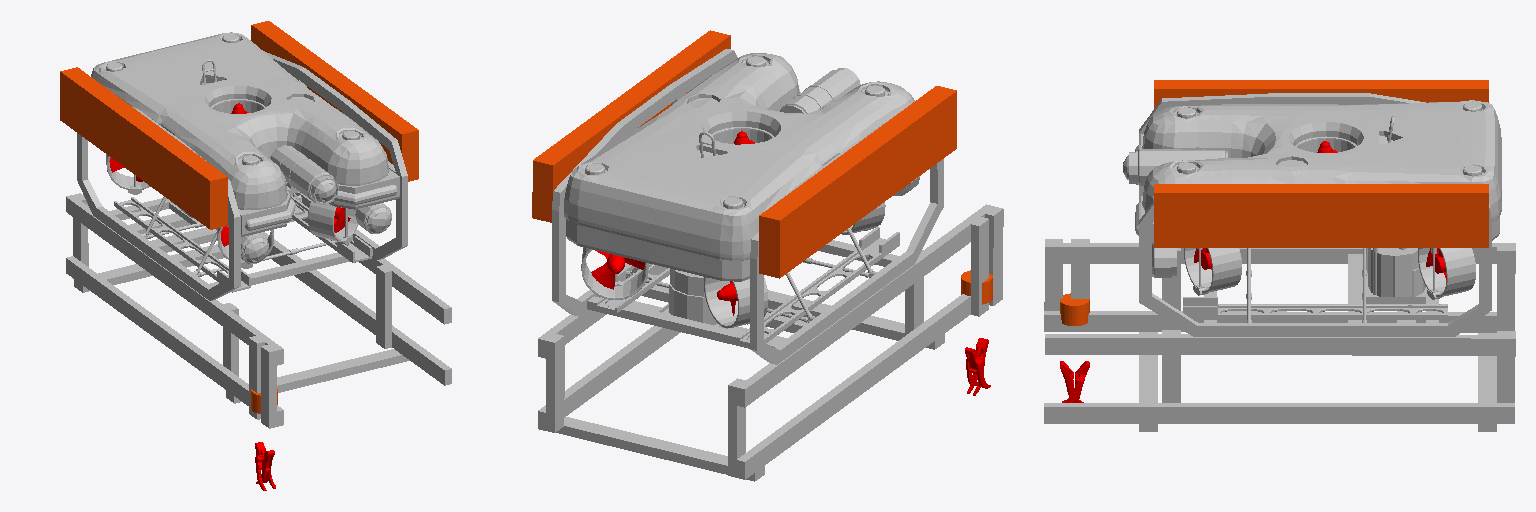
URDF robot description (falcon_bravo7_gripper):
<?xml version="1.0"?>
<robot name="falcon_bravo7_gripper">

    <material name="green">
            <color rgba="0.235 0.702 0.443 1"/>
    </material>

    <material name="blue">
            <color rgba="0.263 0.733 0.984 1"/>
    </material>

    <material name="purple">
            <color rgba="0.5 0.733 0.984 1"/>
    </material>

    <material name="red">
            <color rgba="1 0 0 1"/>
    </material>

    <material name="black">
            <color rgba="0.8 0.8 0.8 1"/>
    </material>

    <material name="orange">
            <color rgba="1 0.369 0.047 1"/>
    </material>

            <link name="falcon">
                <!--Inertial parameters are not correct-->
                <inertial>
                    <mass value="200.0"/>
                    <origin xyz="0 0 0"/>
                    <inertia ixx="0.01152" ixy="0.0" ixz="0.0" iyy="0.01152" iyz="0.0" izz="0.0218"/>
                </inertial>
                <visual>
                    <origin rpy="0 0 0" xyz="0 0 0"/>
                    <geometry>
                        <mesh filename="package://example-robot-data/robots/falcon_description/meshes/falcon_rov.stl"/>
                    </geometry>
                    <material name="black"/>
                </visual>
                <collision>
                    <origin rpy="0 0 0" xyz="0 0 0"/>
                    <geometry>
                        <mesh filename="package://example-robot-data/robots/falcon_description/meshes/falcon_rov_convex_hull.stl"/>
                    </geometry>
                </collision>
            </link>

            <link name="chassis">
                <!--Inertial parameters are not correct-->
                <inertial>
                    <mass value="200.0"/>
                    <origin xyz="0 0 0"/>
                    <inertia ixx="0.01152" ixy="0.0" ixz="0.0" iyy="0.01152" iyz="0.0" izz="0.0218"/>
                </inertial>
                <visual>
                    <origin rpy="0 0 0" xyz="0 0 0"/>
                    <geometry>
                        <mesh filename="package://example-robot-data/robots/falcon_description/meshes/chassis_rov.stl"/>
                    </geometry>
                    <material name="black"/>
                </visual>
                <collision>
                    <origin rpy="0 0 0" xyz="0 0 0"/>
                    <geometry>
                        <mesh filename="package://example-robot-data/robots/falcon_description/meshes/chassis_rov_convex_hull.stl"/>
                    </geometry>
                </collision>
            </link>

                    <joint name="falcon2chassis" type="fixed">
                        <parent link="falcon"/>
                        <child link="chassis"/>
                        <origin rpy="-1.57 3.14  0" xyz="0.295 -0.73 -0.275"/>
                    </joint>

            <link name="floaterR">
                <!--Inertial parameters are not correct-->
                <inertial>
                    <mass value="2.0"/>
                    <origin xyz="0 0 0"/>
                    <inertia ixx="0.01152" ixy="0.0" ixz="0.0" iyy="0.01152" iyz="0.0" izz="0.0218"/>
                </inertial>
                <visual>
                    <origin rpy="0 0 0" xyz="0 0 0"/>
                    <geometry>
                        <mesh filename="package://example-robot-data/robots/falcon_description/meshes/floater.stl"/>
                    </geometry>
                    <material name="orange"/>
                </visual>
                <collision>
                    <origin rpy="0 0 0" xyz="0 0 0"/>
                    <geometry>
                        <mesh filename="package://example-robot-data/robots/falcon_description/meshes/floater.stl"/>
                    </geometry>
                </collision>
            </link>

                    <joint name="falcon2floaterR" type="fixed">
                        <parent link="falcon"/>
                        <child link="floaterR"/>
                        <origin rpy="-1.57 0 -1.57" xyz="0.29 0.45 0.45"/>
                    </joint>

            <link name="floaterL">
                <!--Inertial parameters are not correct-->
                <inertial>
                    <mass value="2.0"/>
                    <origin xyz="0 0 0"/>
                    <inertia ixx="0.01152" ixy="0.0" ixz="0.0" iyy="0.01152" iyz="0.0" izz="0.0218"/>
                </inertial>
                <visual>
                    <origin rpy="0 0 0" xyz="0 0 0"/>
                    <geometry>
                        <mesh filename="package://example-robot-data/robots/falcon_description/meshes/floater.stl"/>
                    </geometry>
                    <material name="orange"/>
                </visual>
                <collision>
                    <origin rpy="0 0 0" xyz="0 0 0"/>
                    <geometry>
                        <mesh filename="package://example-robot-data/robots/falcon_description/meshes/floater.stl"/>
                    </geometry>
                </collision>
            </link>

                    <joint name="falcon2floaterL" type="fixed">
                        <parent link="falcon"/>
                        <child link="floaterL"/>
                        <origin rpy="-1.57 0 -1.57" xyz="-0.365 0.45 0.45"/>
                    </joint>

            <!--PROPELLERS-->
            <link name="top_propeller">
                <visual>
                    <geometry>
                        <mesh filename="package://example-robot-data/robots/falcon_description/meshes/propeller_rov.stl"/>
                    </geometry>
                    <material name="red"/>
                </visual>
            </link>

            <link name="FR_propeller">
                <visual>
                    <geometry>
                        <mesh filename="package://example-robot-data/robots/falcon_description/meshes/propeller_rov.stl"/>
                    </geometry>
                    <material name="red"/>
                </visual>
            </link>

            <link name="FL_propeller">
                <visual>
                    <geometry>
                        <mesh filename="package://example-robot-data/robots/falcon_description/meshes/propeller_rov.stl"/>
                    </geometry>
                    <material name="red"/>
                </visual>
            </link>

            <link name="BL_propeller">
                <visual>
                    <geometry>
                        <mesh filename="package://example-robot-data/robots/falcon_description/meshes/propeller_rov.stl"/>
                    </geometry>
                    <material name="red"/>
                </visual>
            </link>

            <link name="BR_propeller">
                <visual>
                    <geometry>
                        <mesh filename="package://example-robot-data/robots/falcon_description/meshes/propeller_rov.stl"/>
                    </geometry>
                    <material name="red"/>
                </visual>
            </link>

                    <joint name="top_propeller_joint" type="fixed">
                        <parent link="falcon"/>
                        <child link="top_propeller"/>
                        <origin rpy="0.0 1.57 0" xyz="-0.005 0.015 0.35"/>
                    </joint>

                    <joint name="BR_propeller_joint" type="fixed">
                        <parent link="falcon"/>
                        <child link="BR_propeller"/>
                        <origin rpy="0.0 0.0 -2.0944" xyz="-0.19 0.31 0.165"/>
                    </joint>

                    <joint name="BL_propeller_joint" type="fixed">
                        <parent link="falcon"/>
                        <child link="BL_propeller"/>
                        <origin rpy="0.0 0.0 -1.0472" xyz="0.19 0.31 0.165"/>
                    </joint>

                    <joint name="FL_propeller_joint" type="fixed">
                        <parent link="falcon"/>
                        <child link="FL_propeller"/>
                        <origin rpy="0.0 0.0 -1.0472" xyz="0.165 -0.307 0.165"/>
                    </joint>

                    <joint name="FR_propeller_joint" type="fixed">
                        <parent link="falcon"/>
                        <child link="FR_propeller"/>
                        <origin rpy="0.0 0.0 -2.094395327" xyz="-0.165 -0.307 0.165"/>
                    </joint>

                    <joint name="base2arm" type="fixed">
                        <parent link="falcon"/>
                        <child link="link1"/>
                        <origin rpy="0 0 3.14" xyz="-0.325 -0.65 -0.09"/>
                    </joint>

          <!-- Bravo7 with sphere end-effector -->
            <link name="link1">
                <visual>
                    <geometry>
                        <mesh filename="package://example-robot-data/robots/bravo7_description/meshes/RS2-266.stl"/>
                    </geometry>
                    <material name="blue"/>
                </visual>
                <inertial>
                    <mass value="1.25"/>
                    <origin xyz="-0.075 -0.006 -0.003"/>
                    <inertia ixx="0.002108" ixy="0.000182" ixz="-0.000015" iyy="0.002573" iyz="-0.000021" izz="0.003483"/>
                </inertial>
                <collision>
                    <geometry>
                        <mesh filename="package://example-robot-data/robots/bravo7_description/meshes/RS2-266_convex_hull.stl"/>
                    </geometry>
                </collision>
            </link>

                    <joint name="joint1" type="continuous">
                        <parent link="link1"/>
                        <child link="link2"/>
                        <origin rpy="0 0 0" xyz="0.0665 0 0.078"/>
                        <axis xyz="0 0 -1"/>
                    </joint>

            <link name="link2">
                <visual>
                    <geometry>
                        <mesh filename="package://example-robot-data/robots/bravo7_description/meshes/RS2-217.stl"/>
                    </geometry>
                    <material name="green"/>
                </visual>
                <inertial>
                        <mass value="1.55" />
                        <inertia ixx="0.011442" ixy="-0.000484" ixz="0.003405" iyy="0.01298" iyz="-0.001265" izz="0.003202"/>
                        <origin xyz="0.005 -0.001 0.016" />
                </inertial>
                <collision>
                    <geometry>
                        <mesh filename="package://example-robot-data/robots/bravo7_description/meshes/RS2-217_convex_hull.stl"/>
                    </geometry>
                </collision>
            </link>

                    <joint name="joint2" type="revolute">
                        <parent link="link2"/>
                        <child link="link3"/>
                        <origin rpy="0 0 0" xyz="-0.046 0 0.0674"/>
                        <axis xyz="0 1 0"/>
                        <limit effort="9.0" lower="0.0" upper="3.5" velocity="0.5"/>
                    </joint>

            <link name="link3">
                <visual>
                    <geometry>
                        <mesh filename="package://example-robot-data/robots/bravo7_description/meshes/RS2-250-212-214.stl"/>
                    </geometry>
                    <material name="blue"/>
                </visual>
                <inertial>
                    <mass value="1.14" />
                    <origin xyz="0.022 -0.029 0.001" />
                    <inertia ixx="0.003213" ixy="-0.001548" ixz="-0.000031" iyy="0.002327" iyz="0.000006" izz="0.00434"/>
                </inertial>
                <collision>
                    <geometry>
                        <mesh filename="package://example-robot-data/robots/bravo7_description/meshes/RS2-250-212-214_convex_hull.stl"/>
                    </geometry>
                </collision>
            </link>

                    <joint name="joint3" type="revolute">
                        <parent link="link3"/>
                        <child link="link4"/>
                        <origin rpy="0 0 0" xyz="-0.0052 0 -0.29055"/>
                        <axis xyz="0 1 0"/>
                        <limit effort="9.0" lower="0.0" upper="3.5" velocity="0.5"/>
                    </joint>

            <link name="link4">
                <visual>
                    <geometry>
                        <mesh filename="package://example-robot-data/robots/bravo7_description/meshes/RS2-268.stl"/>
                    </geometry>
                    <material name="green"/>
                </visual>
                <collision>
                    <geometry>
                        <mesh filename="package://example-robot-data/robots/bravo7_description/meshes/RS2-268_convex_hull.stl"/>
                    </geometry>
                    <material name="green"/>
                </collision>
                <inertial>
                    <origin xyz="0.017 -0.026 -0.002" rpy="0.0 -0.0 0.0" />
                    <mass value="1.14" />
                    <inertia ixx="0.021232" ixy="0.00033" ixz="-0.003738" iyy="0.022252" iyz="-0.001278" izz="0.002054"/>
                </inertial>
            </link>

                    <joint name="joint4" type="continuous">
                        <parent link="link4"/>
                        <child link="link5"/>
                        <origin rpy="0 0 0" xyz="0.0408 0 0.09695"/>
                        <axis xyz="0 0 -1"/>
                    </joint>

            <link name="link5">
                <visual>
                    <geometry>
                        <mesh filename="package://example-robot-data/robots/bravo7_description/meshes/RS2-214.stl"/>
                    </geometry>
                    <material name="blue"/>
                </visual>
                <inertial>
                    <mass value="1.03" />
                    <origin xyz="0.020 -0.024 0.001" />
                    <inertia ixx="0.00243" ixy="-0.001144" ixz="-0.00004" iyy="0.002026" iyz="0.000011" izz="0.00333"/>
                </inertial>
                <collision>
                    <geometry>
                        <mesh filename="package://example-robot-data/robots/bravo7_description/meshes/RS2-214_convex_hull.stl"/>
                    </geometry>
                </collision>
            </link>

                    <joint name="joint5" type="revolute">
                        <parent link="link5"/>
                        <child link="link6"/>
                        <origin rpy="0 0 0" xyz="-0.0408 0 0.063"/>
                        <axis xyz="0 1 0"/>
                        <limit effort="9.0" lower="0.0" upper="3.5" velocity="0.5"/>
                    </joint>

            <link name="link6">
                <visual>
                    <geometry>
                        <mesh filename="package://example-robot-data/robots/bravo7_description/meshes/RS2-161.stl"/>
                    </geometry>
                    <material name="green"/>
                </visual>
                <inertial>
                    <origin xyz="0.0 0.003 -0.098" rpy="0.0 -0.0 0.0" />
                    <mass value="0.333" />
                    <inertia ixx="0.003709" ixy="-0.000002" ixz="-0.000004" iyy="0.003734" iyz="0.0" izz="0.000079" />
                </inertial>
                <collision>
                    <geometry>
                        <mesh filename="package://example-robot-data/robots/bravo7_description/meshes/RS2-161_convex_hull.stl"/>
                    </geometry>
                </collision>
            </link>

                    <joint name="joint6" type="continuous">
                        <parent link="link6"/>
                        <child link="link7"/>
                        <origin rpy="0 3.14159 0" xyz="-0.0408 0 -0.14863"/>
                        <axis xyz="0 0 -1"/>
                    </joint>

            <link name="link7">
                <visual>
                    <geometry>
                        <mesh filename="package://example-robot-data/robots/bravo7_description/meshes/RS2-180.stl"/>
                    </geometry>
                    <material name="blue"/>
                </visual>
                <inertial>
                    <origin xyz="0.0 0.003 -0.098" />
                    <mass value="1.04" />
                    <inertia ixx="0.022359" ixy="0.000001" ixz="-0.000019" iyy="0.022363" iyz="0.000015" izz="0.000936"/>
                </inertial>
                <collision>
                    <geometry>
                        <mesh filename="package://example-robot-data/robots/bravo7_description/meshes/RS2-180_convex_hull.stl"/>
                    </geometry>
                </collision>
            </link>

            <link name="force_torque_sensor">
                <visual>
                    <geometry>
                        <cylinder length="0.06" radius="0.04"/>
                    </geometry>
                    <material name="orange"/>
                </visual>
                <collision>
                    <geometry>
                        <cylinder length="0.06" radius="0.04"/>
                    </geometry>
                    <material name="orange"/>
                </collision>
            </link>

                    <joint name="FT_fixed_1" type="fixed">
                        <origin rpy="0 0 1.57" xyz=" 0 0 -0.03"/>
                        <parent link="link7"/>
                        <child link="force_torque_sensor"/>
                    </joint>

                    <joint name="bravo_finger_jaws_joint" type="fixed">
                        <parent link="link7"/>
                        <child link="bravo_finger_jaws_base_link" />
                        <origin rpy="3.14 0 0" xyz=" 0.0 0 0.132"/>
                    </joint>

            <link name="bravo_finger_jaws_base_link">
                <visual>
                    <geometry>
                        <mesh filename="package://example-robot-data/robots/bravo7_description/meshes/end_effectors/RS2-257.stl"/>
                    </geometry>
                    <material name="red"/>
                </visual>
                <collision>
                    <geometry>
                        <cylinder length="0.02" radius="0.05"/>
                    </geometry>
                    <origin xyz="0.01 0 0.00" rpy="0 1.5707 0"/>
                </collision>
            </link>

            <link name="bravo_finger1_link">
                <visual>
                    <geometry>
                        <mesh filename="package://example-robot-data/robots/bravo7_description/meshes/end_effectors/RS2-300.stl"/>
                    </geometry>
                    <material name="red"/>
                </visual>
                <collision>
                    <geometry>
                        <box size="0.14 0.04 0.045"/>
                    </geometry>
                    <origin xyz="0.07 0.025 0.00" rpy="0 0 0.35"/>
                </collision>
            </link>

                    <joint name="bravo_finger1_joint" type="revolute">
                        <origin xyz="0.0 -0.033 0" rpy="0 1.57 0"/>
                        <parent link="bravo_finger_jaws_base_link"/>
                        <child link="bravo_finger1_link"/>
                        <axis xyz="0 0 -1"/>
                        <limit lower="0" upper="1.0" effort="10" velocity="10"/>
                    </joint>

            <link name="bravo_finger2_link">
                <visual>
                    <geometry>
                        <mesh filename="package://example-robot-data/robots/bravo7_description/meshes/end_effectors/RS2-301.stl"/>
                    </geometry>
                    <material name="red"/>
                </visual>
                <collision>
                    <geometry>
                        <box size="0.14 0.04 0.045"/>
                    </geometry>
                    <origin xyz="0.07 -0.025 0.00" rpy="0 0 -0.35"/>
                </collision>
            </link>

                    <joint name="bravo_finger2_joint" type="revolute">
                        <origin xyz="0 0.033 0" rpy="0 1.57 0"/>
                        <parent link="bravo_finger_jaws_base_link"/>
                        <child link="bravo_finger2_link"/>
                        <axis xyz="0 0 1"/>
                        <limit lower="0" upper="1.0" effort="10" velocity="10"/>
                    </joint>

            <link name="grasping_poing"/>

                    <joint name="grasping_point_joint" type="fixed">
                        <parent link="link7"/>
                        <child link="grasping_poing" />
                        <origin rpy="3.14 0 0" xyz=" 0.0 0 0.175"/>
                    </joint>
</robot>

--- Facts derived from the render (not from the file) ---
The picture shows the robot from 3 angles, left to right: view 1: azimuth 30°, elevation 25°; view 2: azimuth 150°, elevation 25°; view 3: azimuth 270°, elevation 25°; orthographic projection.
Model falcon_bravo7_gripper with 21 links and 20 joints (5 revolute, 3 continuous, 12 fixed), rooted at falcon, posed every joint at zero.
Links seen in each view (by area): view 1: falcon, chassis, floaterL, floaterR; view 2: falcon, chassis, floaterL, floaterR, BL_propeller, bravo_finger2_link; view 3: falcon, chassis, floaterR, floaterL, force_torque_sensor.
Link boxes in pixels (bbox=[...]): falcon: bbox=[77, 32, 407, 300]; chassis: bbox=[66, 193, 451, 428]; floaterL: bbox=[60, 67, 227, 229]; floaterR: bbox=[251, 21, 418, 181]; falcon: bbox=[552, 49, 943, 364]; chassis: bbox=[538, 204, 1003, 481]; floaterL: bbox=[759, 86, 956, 278]; floaterR: bbox=[532, 30, 730, 222]; BL_propeller: bbox=[591, 250, 644, 289]; bravo_finger2_link: bbox=[965, 347, 990, 388]; falcon: bbox=[1123, 93, 1501, 336]; chassis: bbox=[1044, 239, 1515, 431]; floaterR: bbox=[1154, 184, 1488, 247]; floaterL: bbox=[1154, 80, 1488, 108]; force_torque_sensor: bbox=[1060, 293, 1089, 325].
Size in the robot's own frame: 0.7158 by 1.25 by 0.988 metres.
Meshes: 14 distinct files referenced, 11 mesh visuals loaded (6 binary STL); not drawn: 8 (reference not matched to a file when rendering).